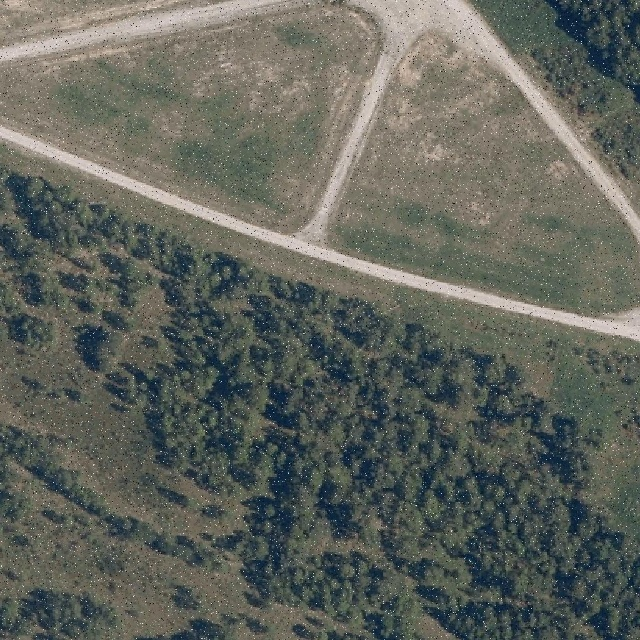vegetation: (0, 173, 640, 640), (0, 427, 226, 571), (555, 0, 640, 100), (0, 585, 118, 640), (171, 616, 226, 640)
